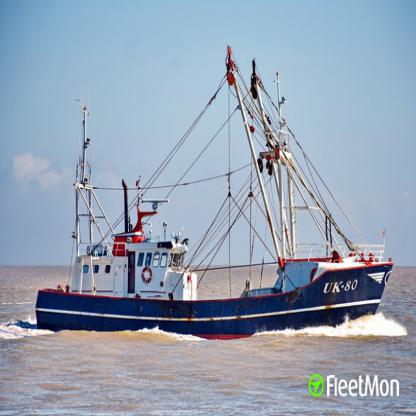Fishing Boat: (36, 45, 394, 340)
